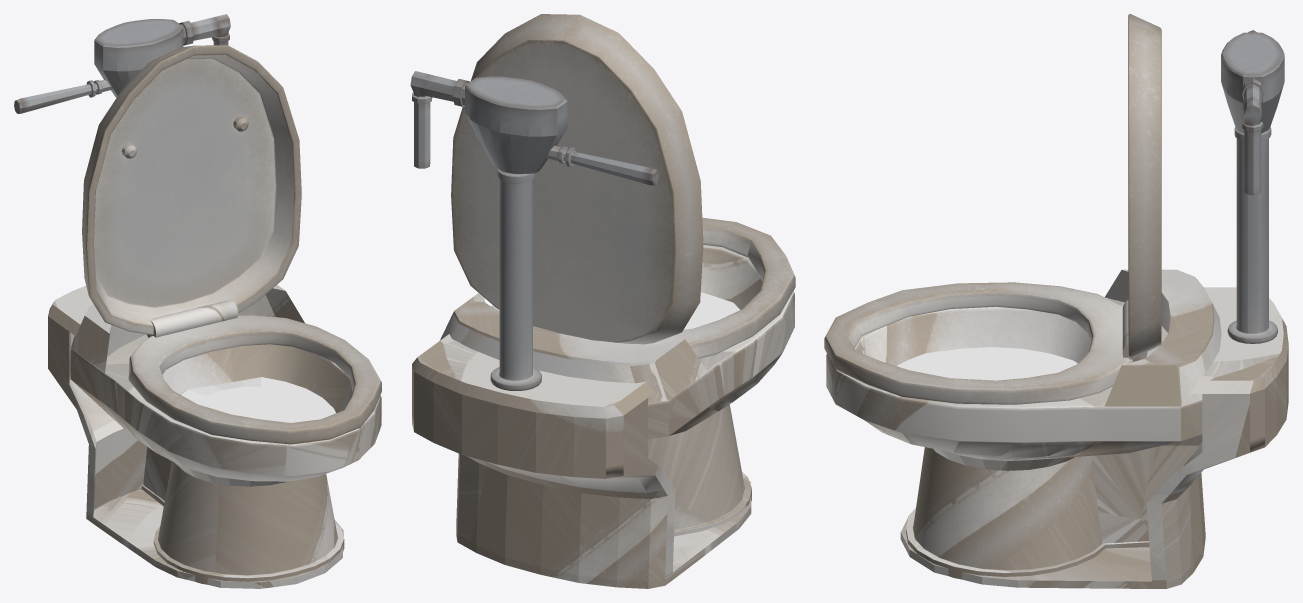
File: ToiletSeatModel.fbx
3 renders of one model, left to right at view 1: azimuth 30°, elevation 25°; view 2: azimuth 150°, elevation 25°; view 3: azimuth 270°, elevation 25°, orthographic. The views are drawn at different scales.
Visible parts, largest first — view 1: toiletlid_GEO, toiletbody_GEO, toiletbase_GEO, toiletseat_GEO, toiletflush_GEO, water_GEO, toilethinge_GEO; view 2: toiletbase_GEO, toiletlid_GEO, toiletflush_GEO, toiletbody_GEO, toiletseat_GEO, water_GEO; view 3: toiletbody_GEO, toiletbase_GEO, toiletseat_GEO, toiletflush_GEO, toiletlid_GEO, water_GEO.
Part boxes in pixels (x1,y1,x2,y2): toiletlid_GEO: (82,45,301,334); toiletbody_GEO: (70,317,381,584); toiletbase_GEO: (48,285,343,588); toiletseat_GEO: (128,315,381,444); toiletflush_GEO: (14,14,230,113); water_GEO: (180,377,335,422); toilethinge_GEO: (147,300,238,337); toiletbase_GEO: (412,293,751,588); toiletlid_GEO: (451,14,703,344); toiletflush_GEO: (410,71,659,390); toiletbody_GEO: (492,245,794,536); toiletseat_GEO: (646,217,795,358); water_GEO: (684,292,739,329); toiletbody_GEO: (826,298,1202,579); toiletbase_GEO: (900,269,1288,588); toiletseat_GEO: (824,282,1132,404); toiletflush_GEO: (1221,30,1284,343); toiletlid_GEO: (1128,14,1161,359); water_GEO: (896,347,1077,380).
Size of the model in its own units: 36.2 by 70.08 by 56.91.
Materials: 3 (2 with a texture image).
